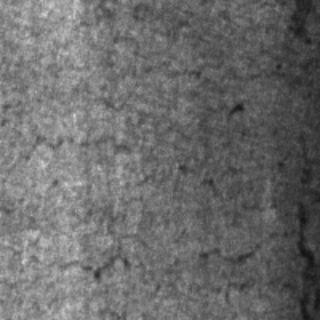crazing: (2, 132, 132, 215), (192, 173, 294, 261), (2, 227, 158, 283)
